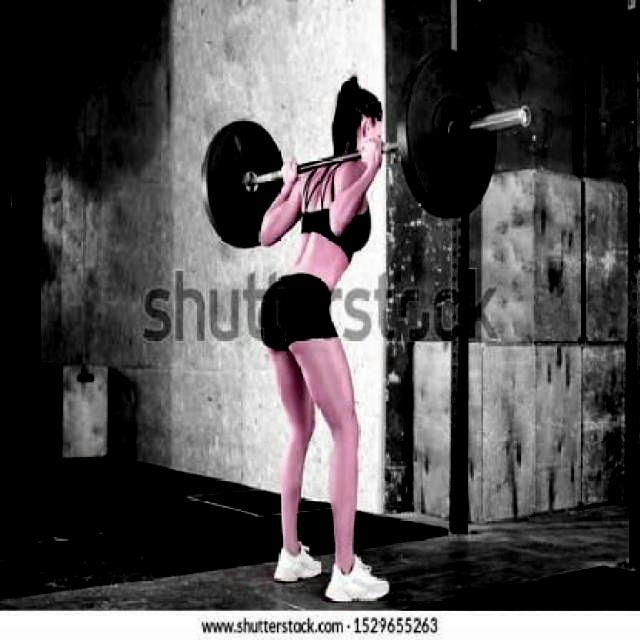barbell: (392, 30, 537, 226)
